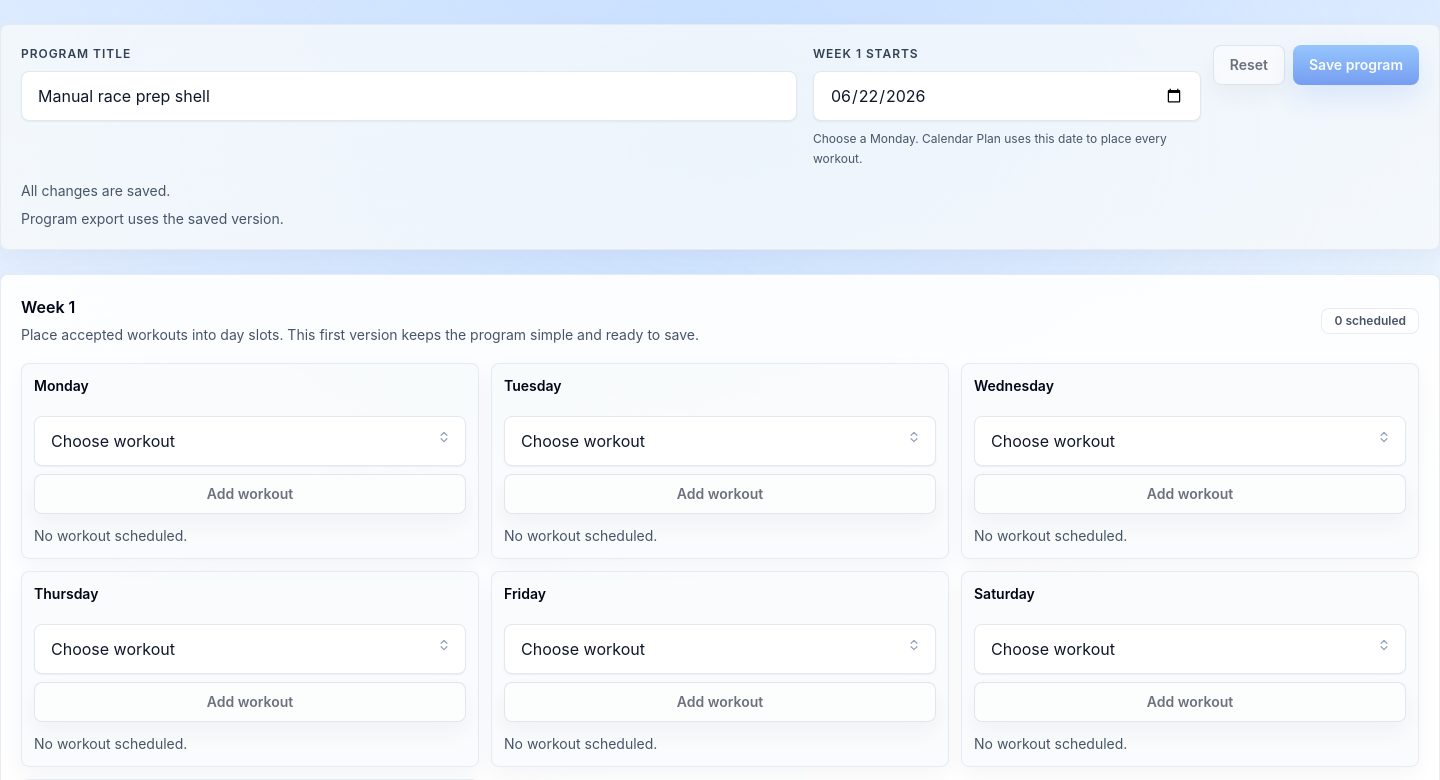
Test: ProgramBuilderHub › adds a scheduled workout and saves program edits
Expected: the text with test id "program-editor-save-state" reads "All changes are saved.", [21,182,170,199]
Expected: the button with test id "program-builder-save" is disabled, [1293,45,1419,85]
Replace the text in the field with test id "program-draft-title" with "Builder edited program" at (409, 96), box [21,71,797,121]
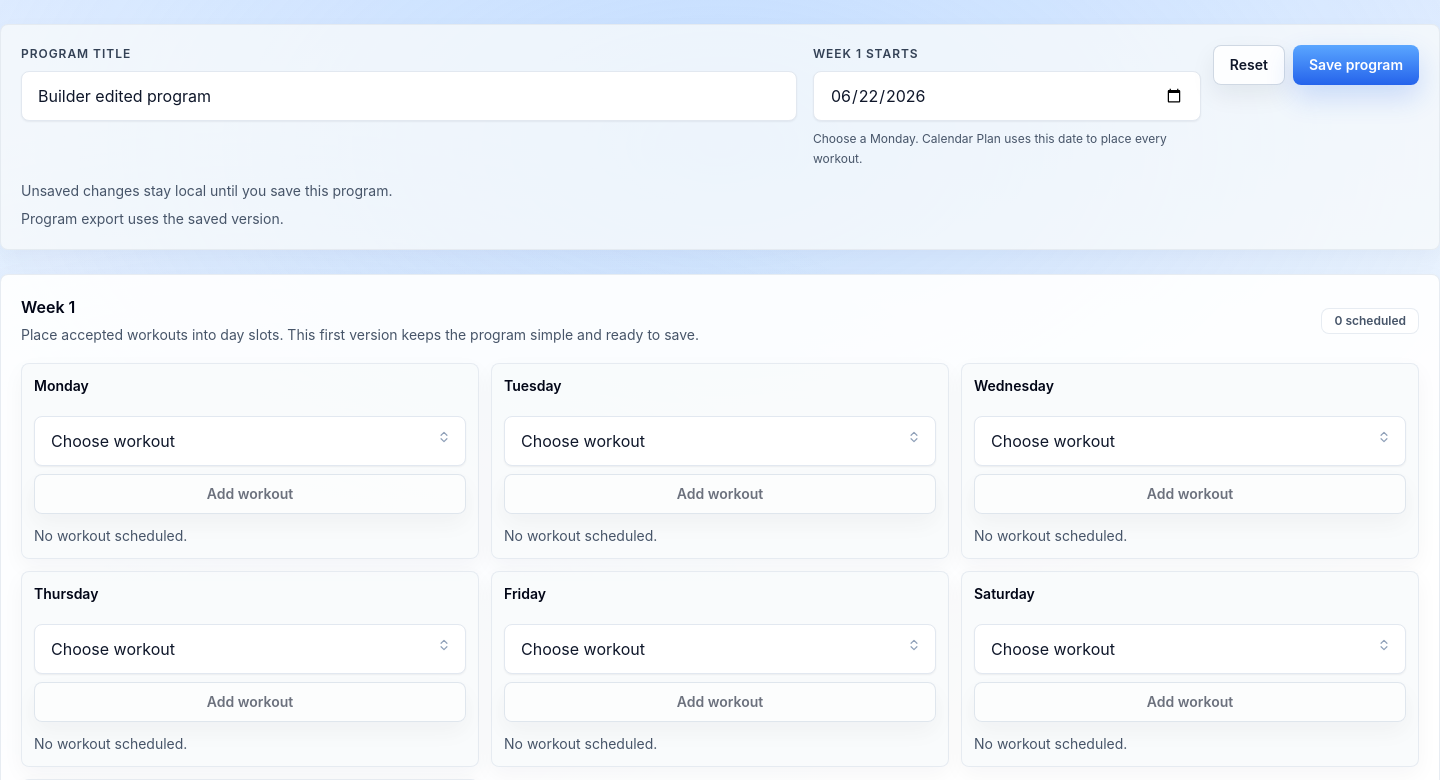
Type "2026-06-29" into the date field with test id "program-draft-starts-on" at (1007, 96), box [813,71,1201,121]
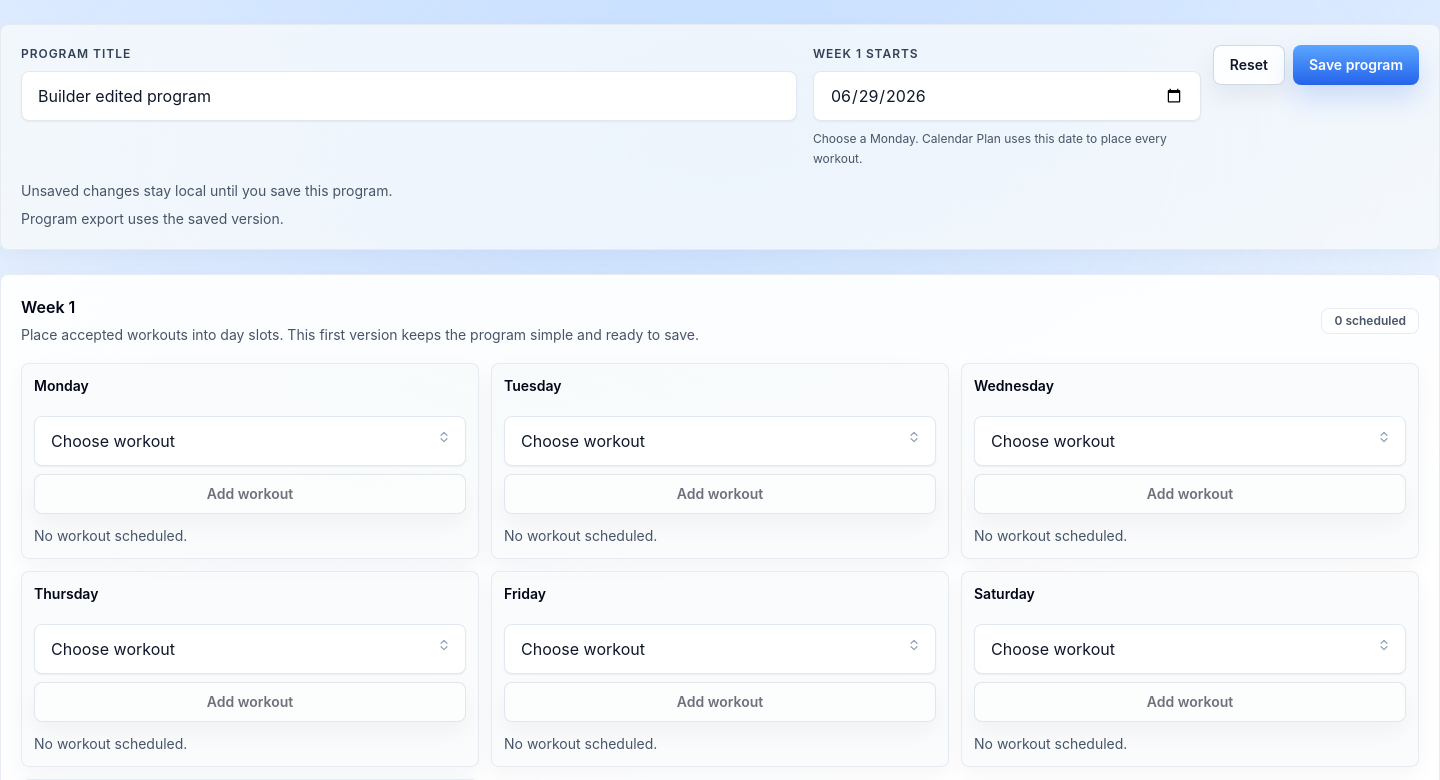
Select "Threshold builder workout" in the dropdown with test id "program-day-picker-week-0-day-0" at (250, 441), box [34,416,466,466]
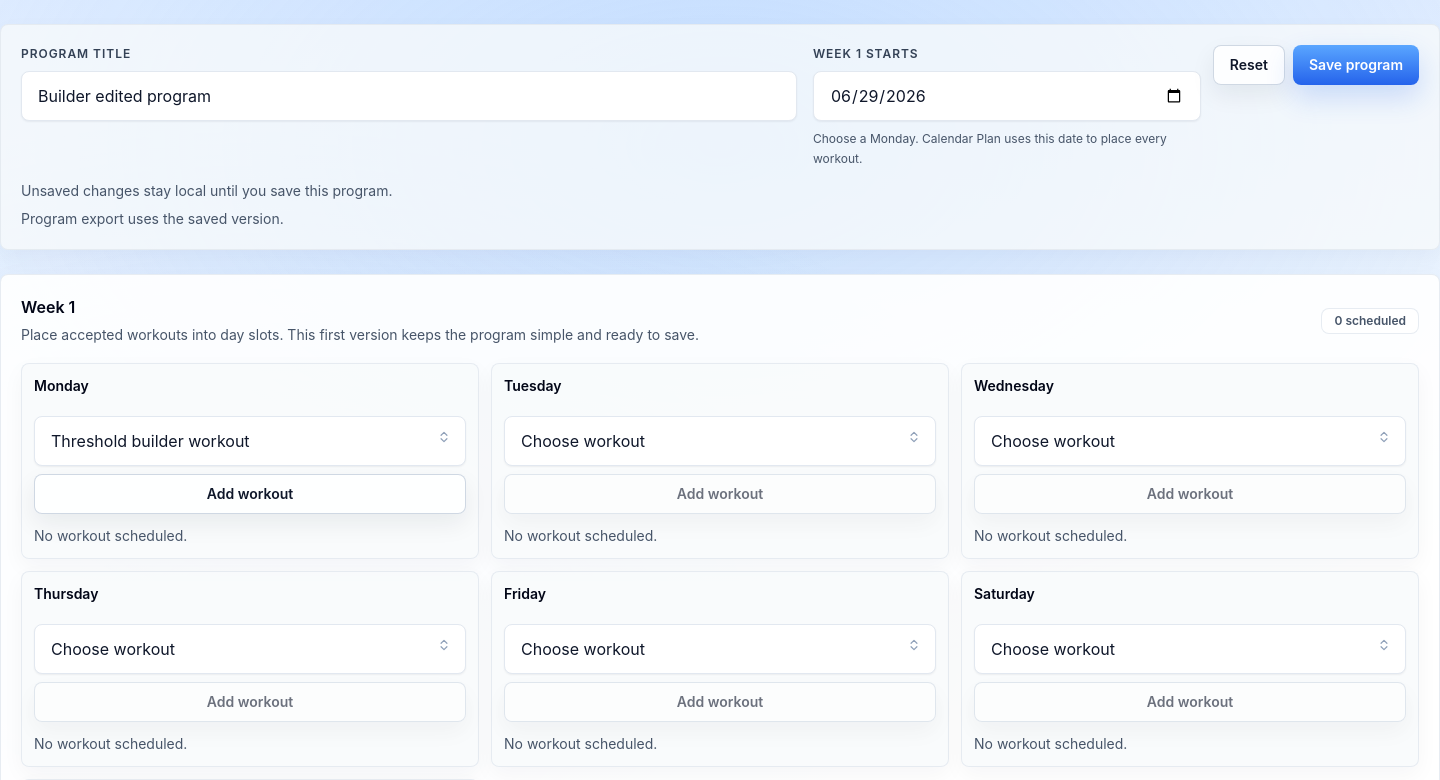
Click the button with test id "program-day-add-week-0-day-0" at (250, 494), box [34,474,466,514]
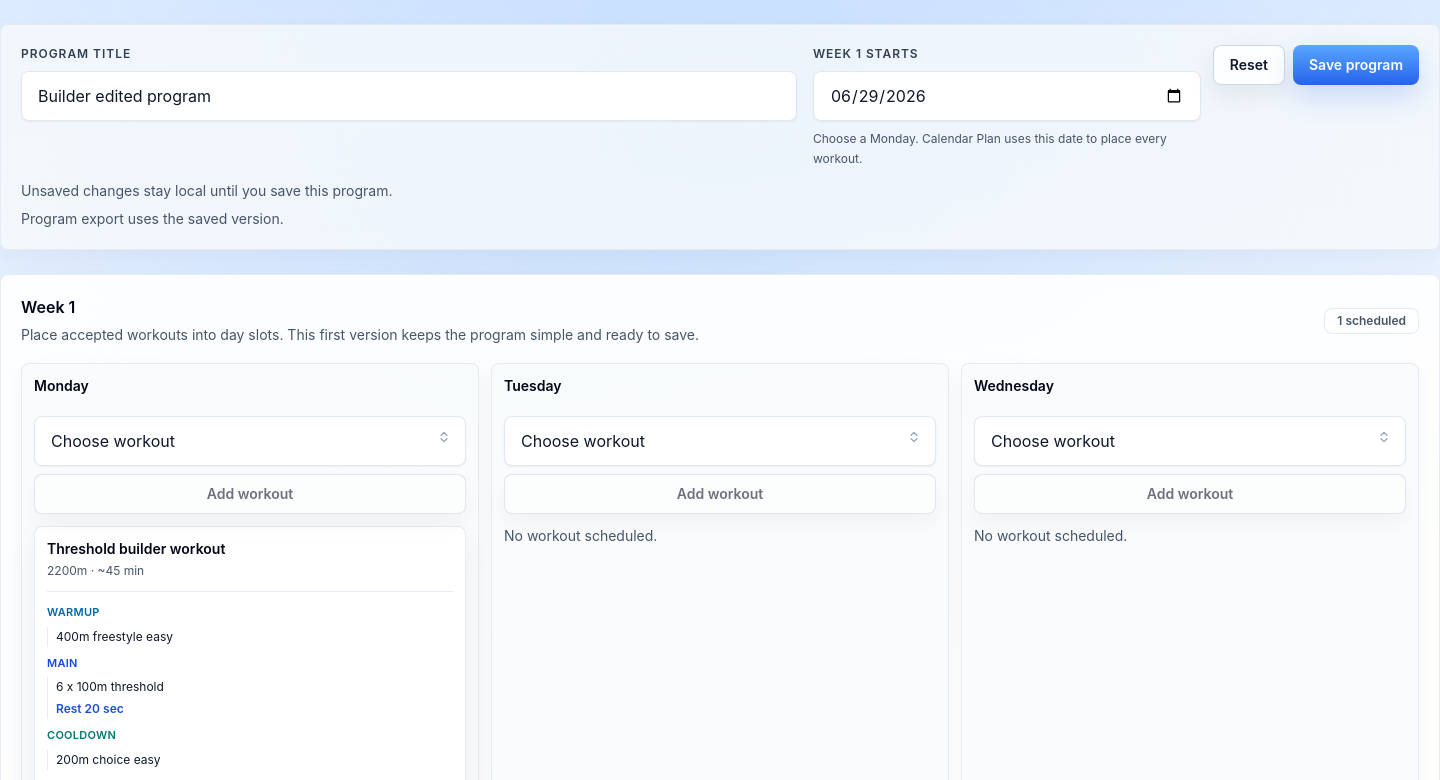
Expected: the element named "Scheduled workout step preview for Threshold builder workout" is shown, [47,591,453,770]
Expected: the text "Warmup" is shown, [47,605,100,619]
Expected: the text "400m freestyle easy" is shown, [56,628,173,644]
Click the button with test id "program-builder-save" at (1356, 65), box [1293,45,1419,85]
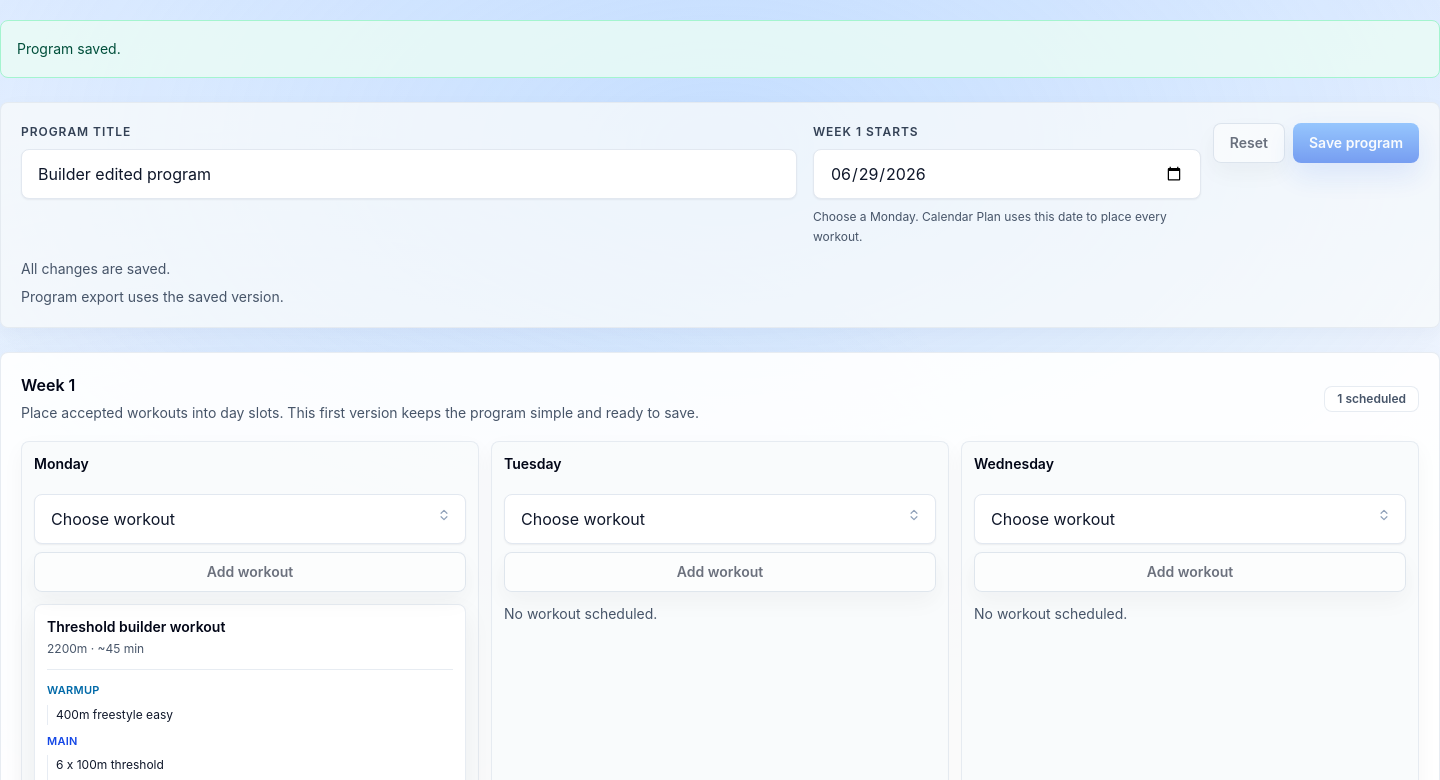
Expected: the message with test id "program-builder-action-success" reads "Program saved.", [17,40,121,57]
Expected: the button with test id "program-builder-save" is disabled, [1293,123,1419,163]
